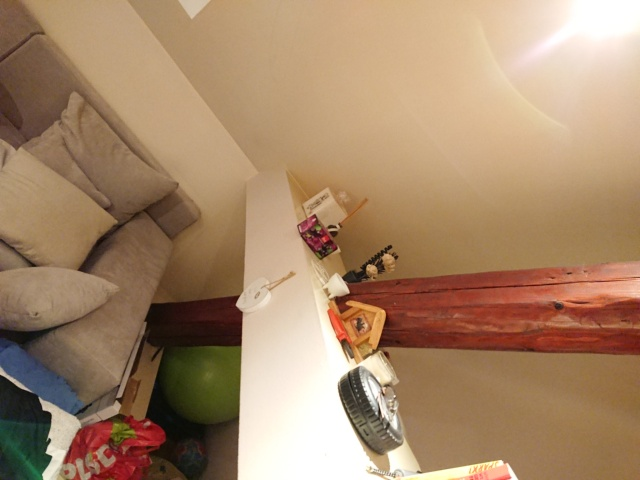Franck Black Currant Tea 60g: (295, 212, 340, 262)
